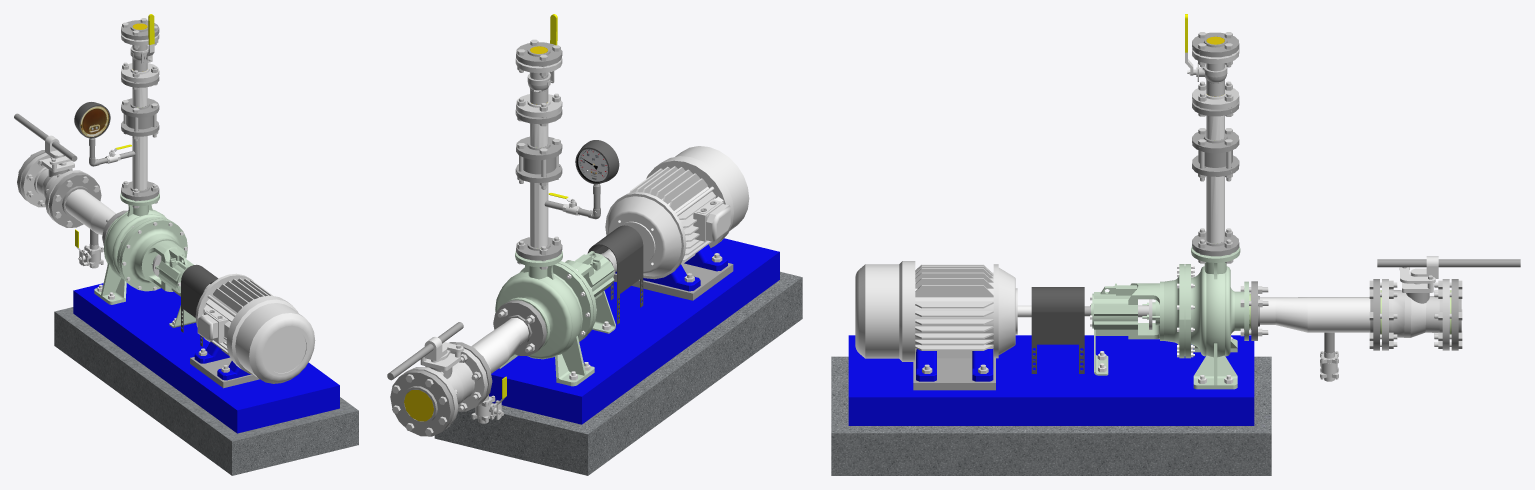
Rendered from centrifugal_pump__bomba_centrifuga.glb.
The picture shows the model from 3 angles, left to right: view 1: azimuth 30°, elevation 25°; view 2: azimuth 150°, elevation 25°; view 3: azimuth 270°, elevation 25°; orthographic projection. The views are drawn at different scales.
Parts seen in each view (by area): view 1: Material2 (×10), Material3 (×2); view 2: Material2 (×11), Material3 (×3); view 3: Material2 (×9), Material3 (×2).
Boxes of the visible parts, x1=… form: Material2 (×10): x1=14, y1=18, x2=358, y2=475; Material3 (×2): x1=80, y1=106, x2=218, y2=346; Material2 (×11): x1=387, y1=39, x2=802, y2=475; Material3 (×3): x1=447, y1=149, x2=643, y2=404; Material2 (×9): x1=831, y1=32, x2=1520, y2=475; Material3 (×2): x1=1031, y1=287, x2=1439, y2=373.
Bounding box in the file's own units: 22.89 × 58.67 × 86.68.
35 materials, 8 textured.
